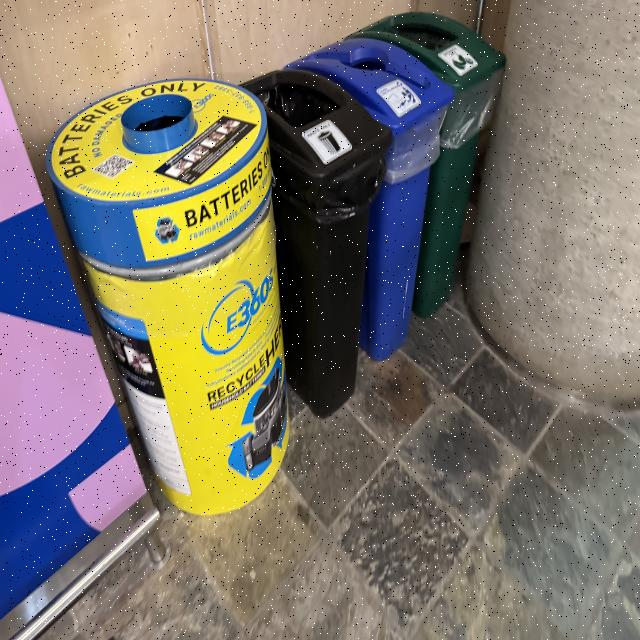Dustbin: (240, 11, 508, 419)
